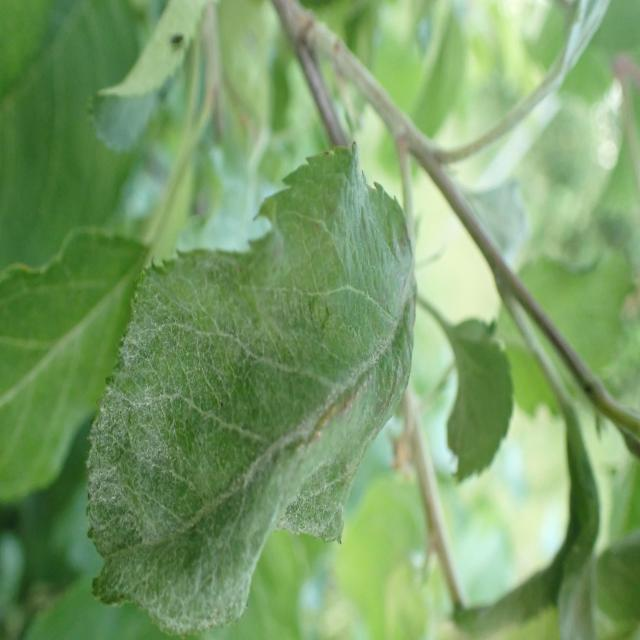Powdery_mildew: (64, 153, 418, 640)
